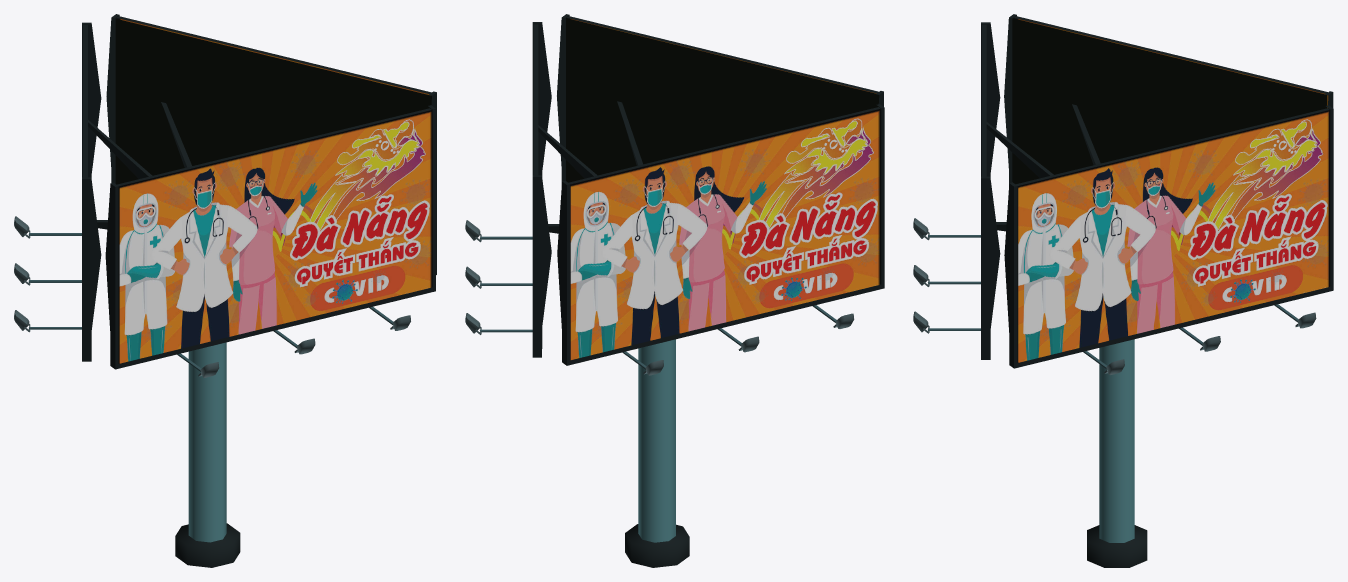
3 renders of one model, left to right at view 1: azimuth 30°, elevation 25°; view 2: azimuth 150°, elevation 25°; view 3: azimuth 270°, elevation 25°, orthographic.
Parts seen in each view (by area): view 1: danang_covid_02; view 2: danang_covid_02; view 3: danang_covid_02.
Part boxes in pixels (x1=…): danang_covid_02: x1=14, y1=14, x2=436, y2=567; danang_covid_02: x1=465, y1=14, x2=884, y2=567; danang_covid_02: x1=913, y1=14, x2=1333, y2=567.
Bounding box in the file's own units: 17.88 × 19.96 × 16.72.
Materials: 1 (1 with a texture image).
